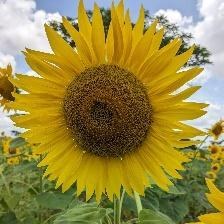sunflower: (12, 1, 212, 207)
